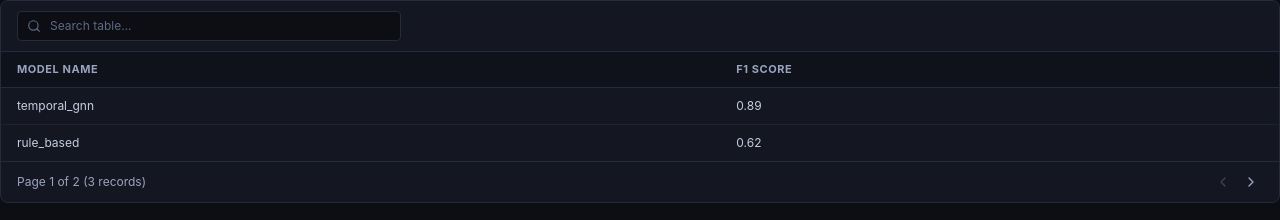
Test case: Design System Common Components › renders DataTable with columns and handles sorting and pagination
Expected: the text "temporal_gnn" is shown, [1,87,720,124]
Expected: the text "rule_based" is shown, [1,124,720,161]
// Sort by model header
Click the text "Model Name".
click(58, 69)  # box [17,62,98,77]
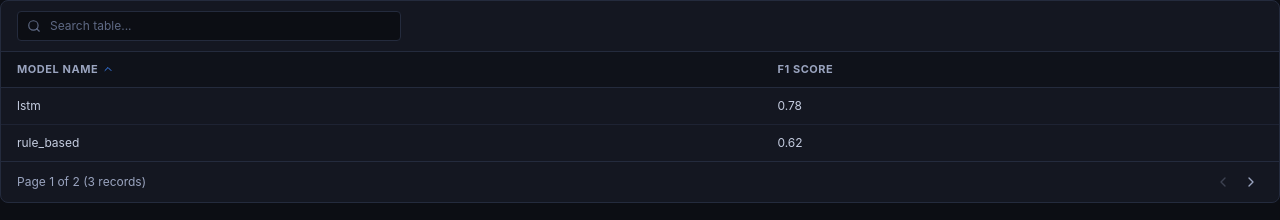
Now the text "lstm" is shown, box [1,87,761,124]
